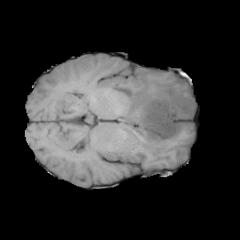glioma: (112, 69, 194, 154)
